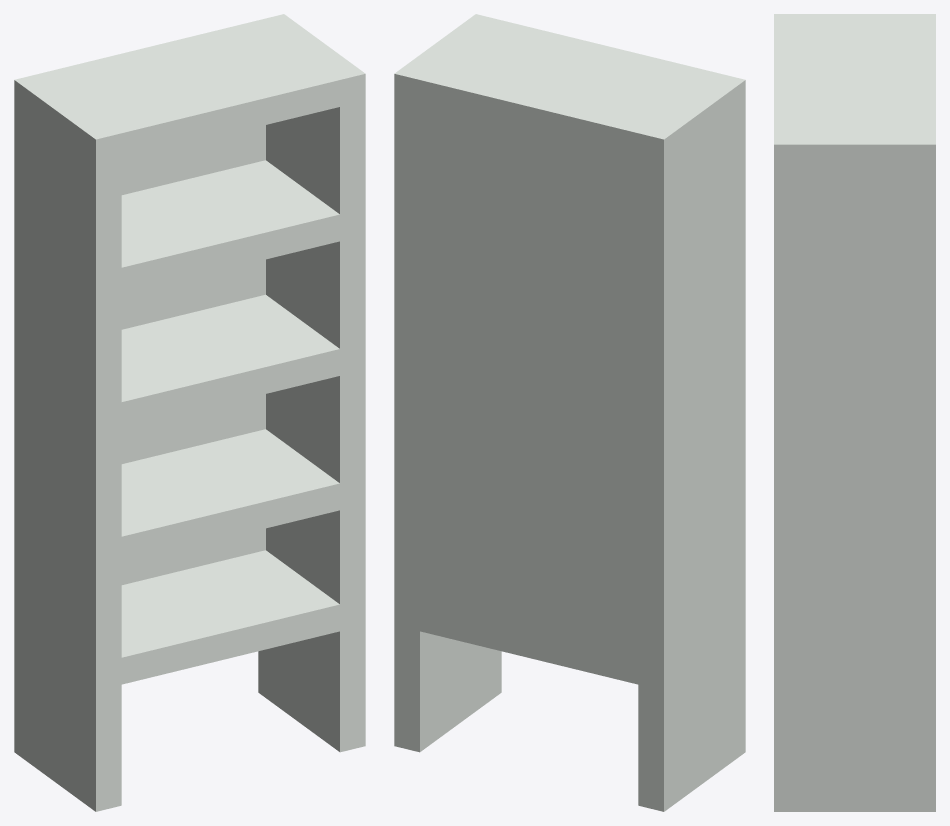
Rendered from cupboard2.obj.
The picture shows the model from 3 angles, left to right: view 1: azimuth 30°, elevation 25°; view 2: azimuth 150°, elevation 25°; view 3: azimuth 270°, elevation 25°; orthographic projection.
Size of the model in its own units: 2.1 by 5 by 1.1.
1 material, 1 textured.
